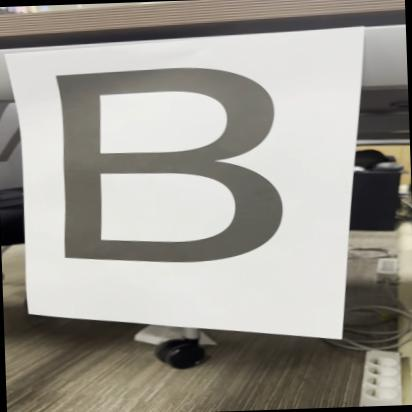seat: (38, 56, 290, 276)
